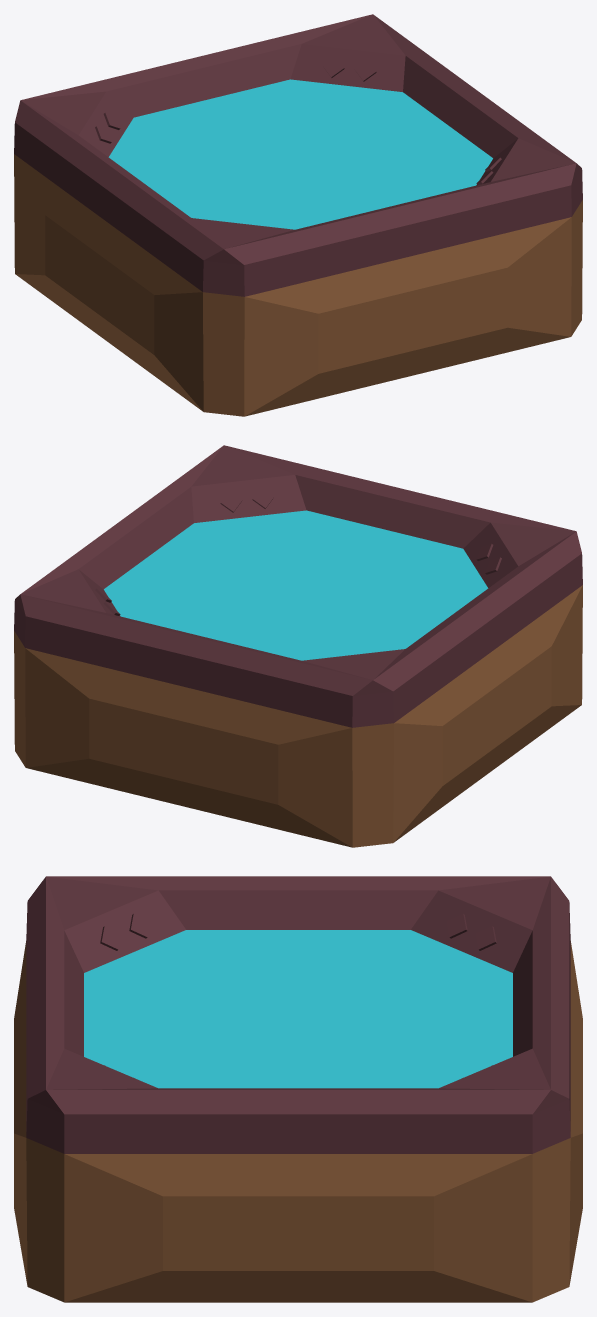
The model's file is hot-tub.fbx.
3 renders of one model, top to bottom at view 1: azimuth 30°, elevation 25°; view 2: azimuth 150°, elevation 25°; view 3: azimuth 270°, elevation 25°, orthographic. The views are drawn at different scales.
Parts seen in each view (by area): view 1: hot-tub; view 2: hot-tub; view 3: hot-tub.
Part boxes in pixels (x1=…): hot-tub: x1=14, y1=14, x2=582, y2=416; hot-tub: x1=14, y1=445, x2=582, y2=847; hot-tub: x1=14, y1=876, x2=582, y2=1302.
Bounding box in the file's own units: 2.47 × 0.98 × 2.47.
